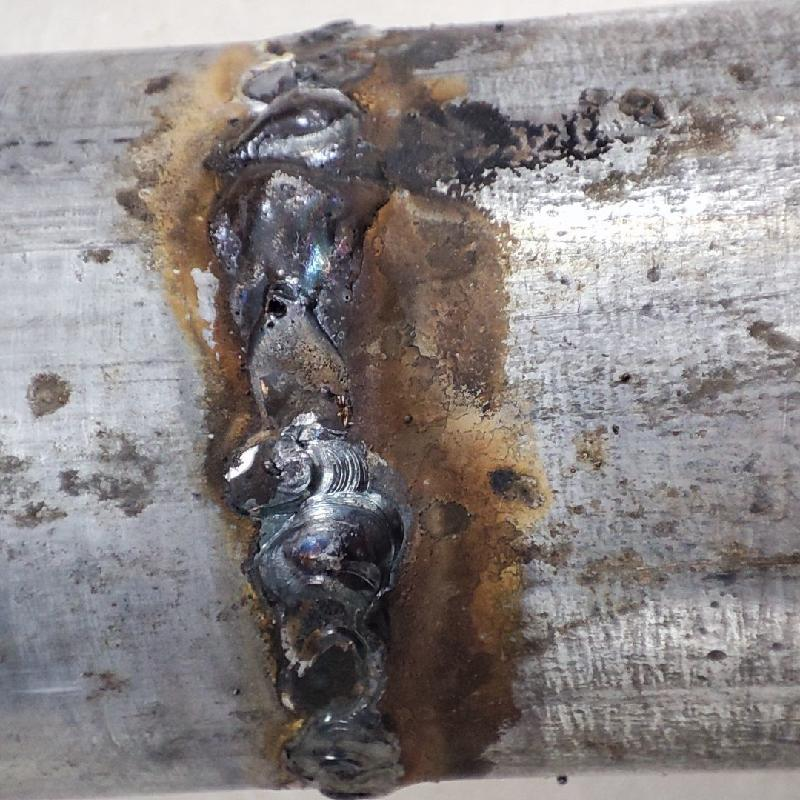Not_fully_soldered: (236, 293, 362, 433)
Weld: (235, 89, 366, 292)
wrong_size: (244, 436, 411, 789)
